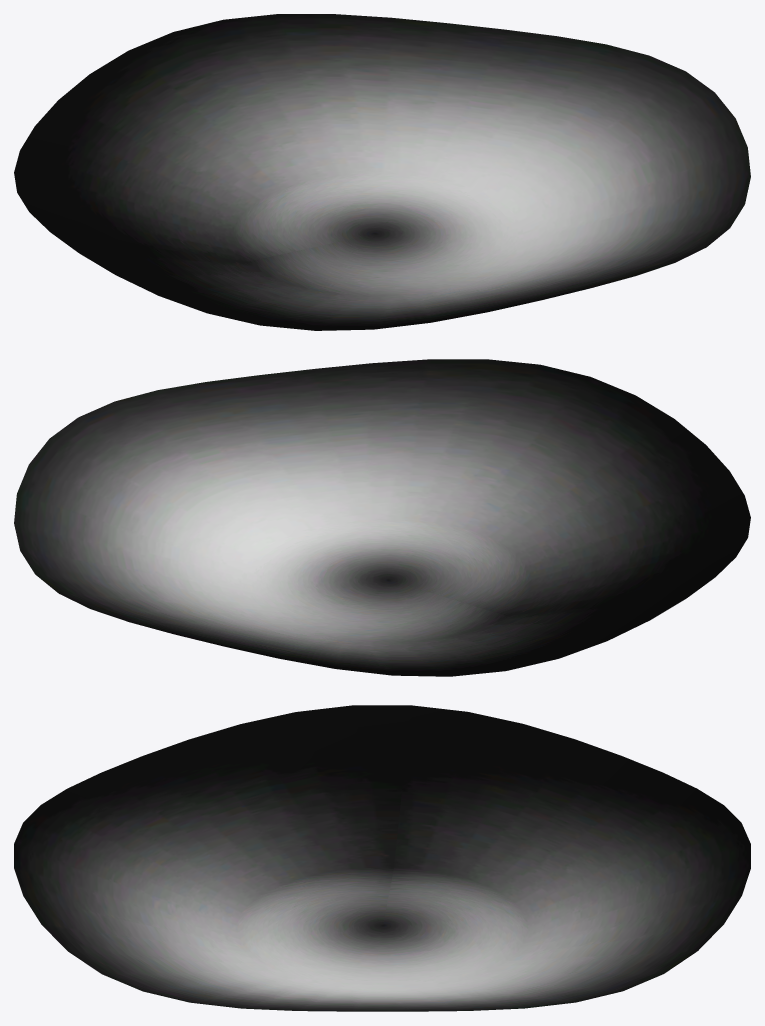
Rendered from vfx_kurp_0948.dae.
3 renders of one model, top to bottom at view 1: azimuth 30°, elevation 25°; view 2: azimuth 150°, elevation 25°; view 3: azimuth 270°, elevation 25°, orthographic.
Visible parts, largest first — view 1: vfx_kurp_0948; view 2: vfx_kurp_0948; view 3: vfx_kurp_0948.
Part boxes in pixels (x1,y1,x2,y2): vfx_kurp_0948: (14,14,750,330); vfx_kurp_0948: (14,359,750,676); vfx_kurp_0948: (14,705,750,1011).
Bounding box in the file's own units: 6.39 × 6.39 × 0.7181.
Materials: 1 (1 with a texture image).
